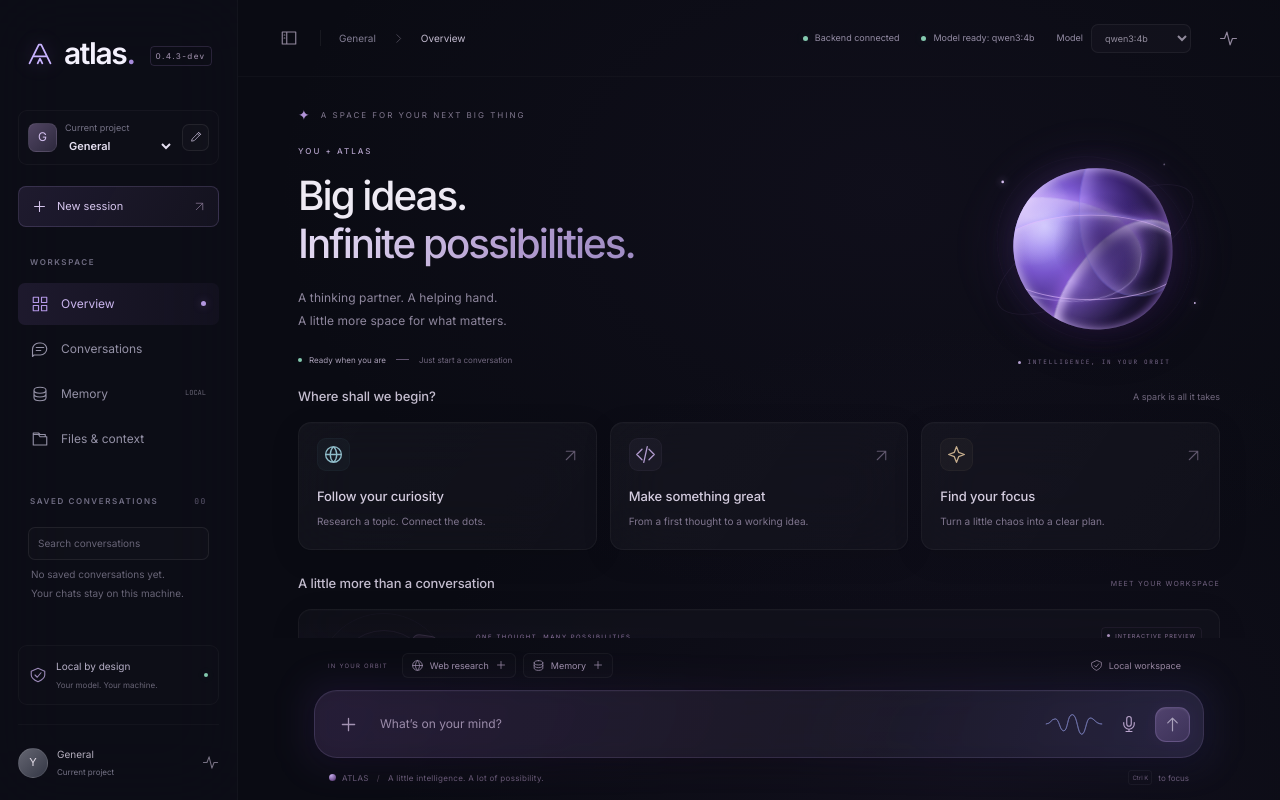
Test: new session aborts a pending request and ignores its late response
Expected: the text "Backend connected" is shown, [803,31,899,45]
Expected: the text "Model ready: qwen3:4b" is shown, [921,31,1034,45]
Type "A pending question" into the field named "Message Atlas" at (705, 724), box [380,715,1030,733]
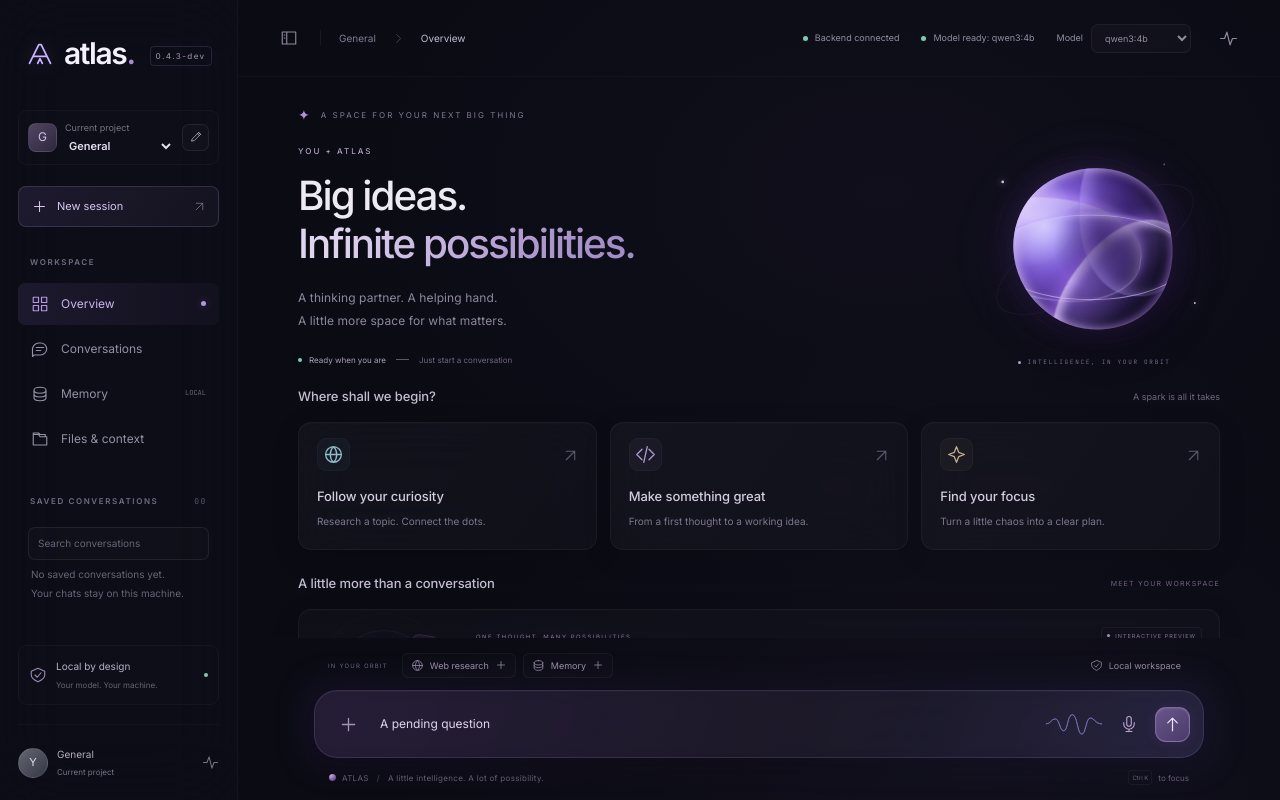
Click the button named "Send message" at (1172, 724), box [1155,706,1190,742]
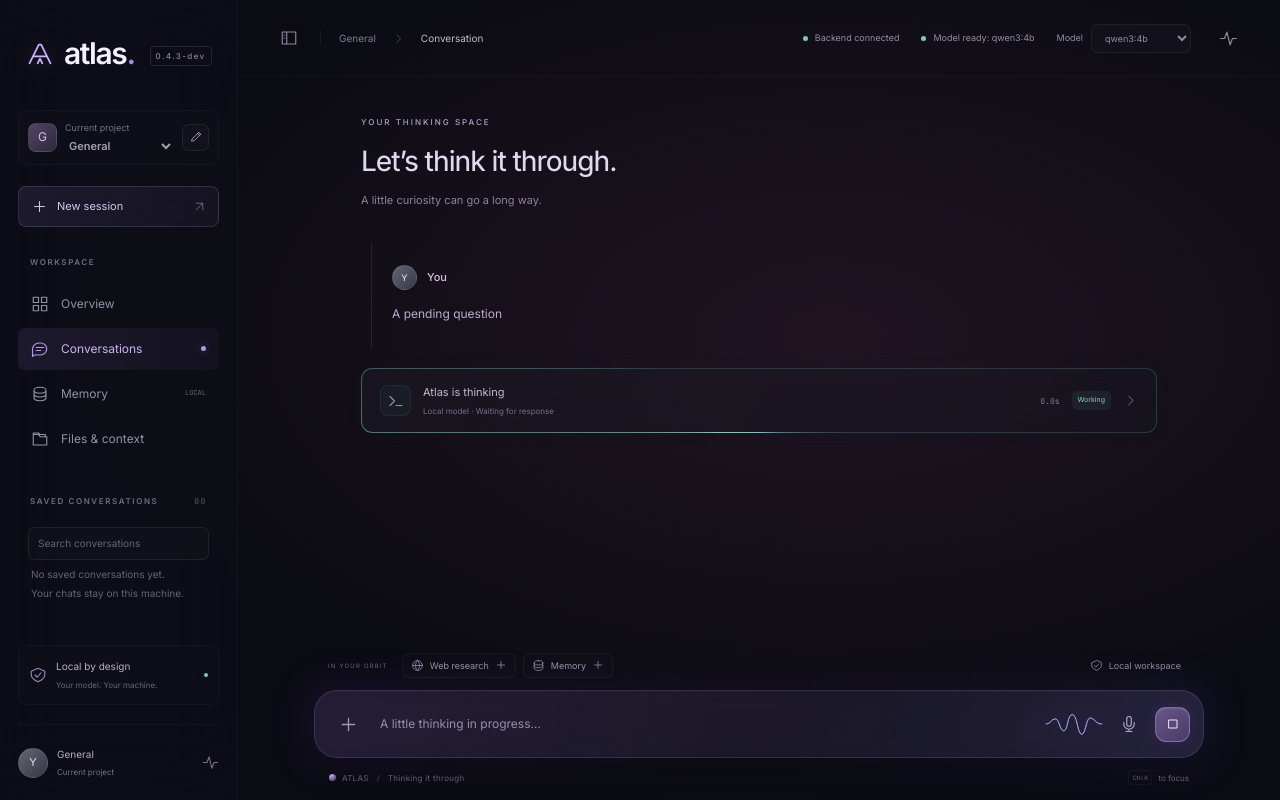
Click the button "New session" at (118, 206), box [18,186,219,226]
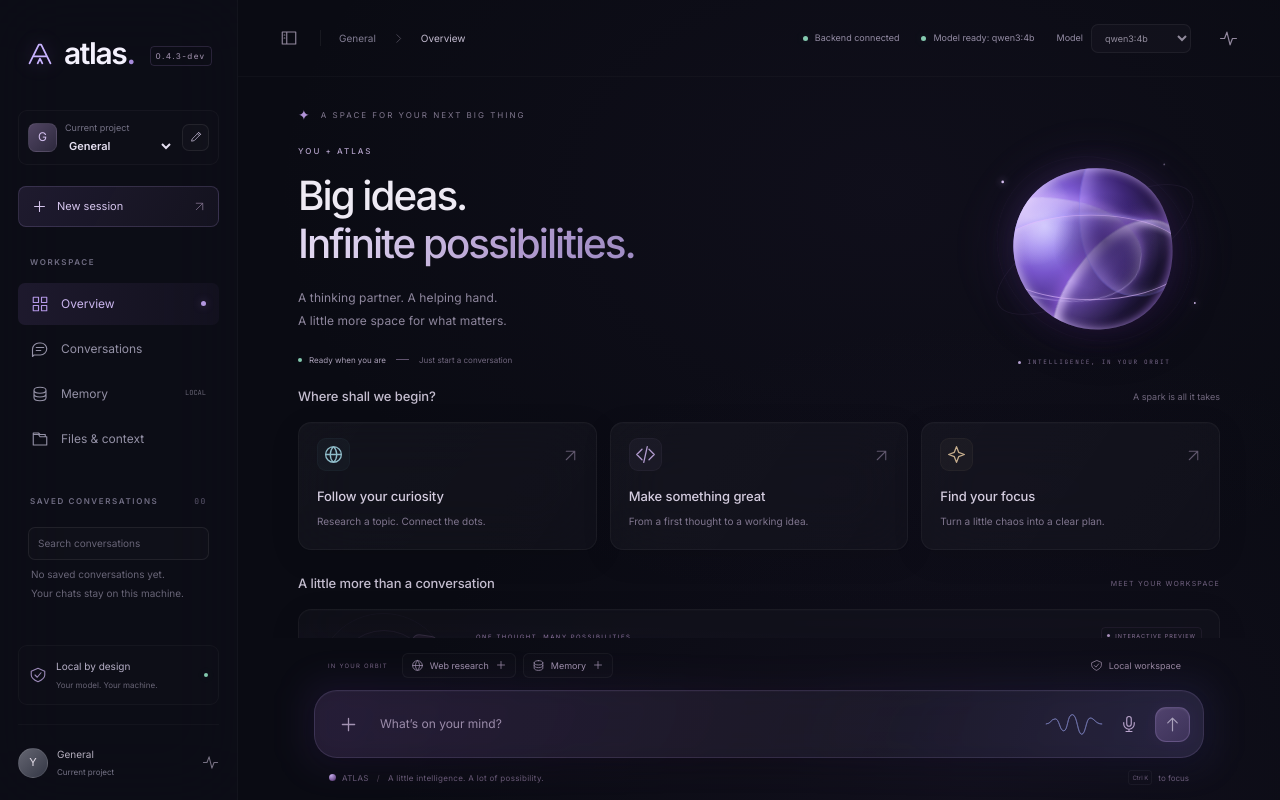
Expected: the heading "Big ideas.Infinite possibilities." is shown, [298,171,635,268]
